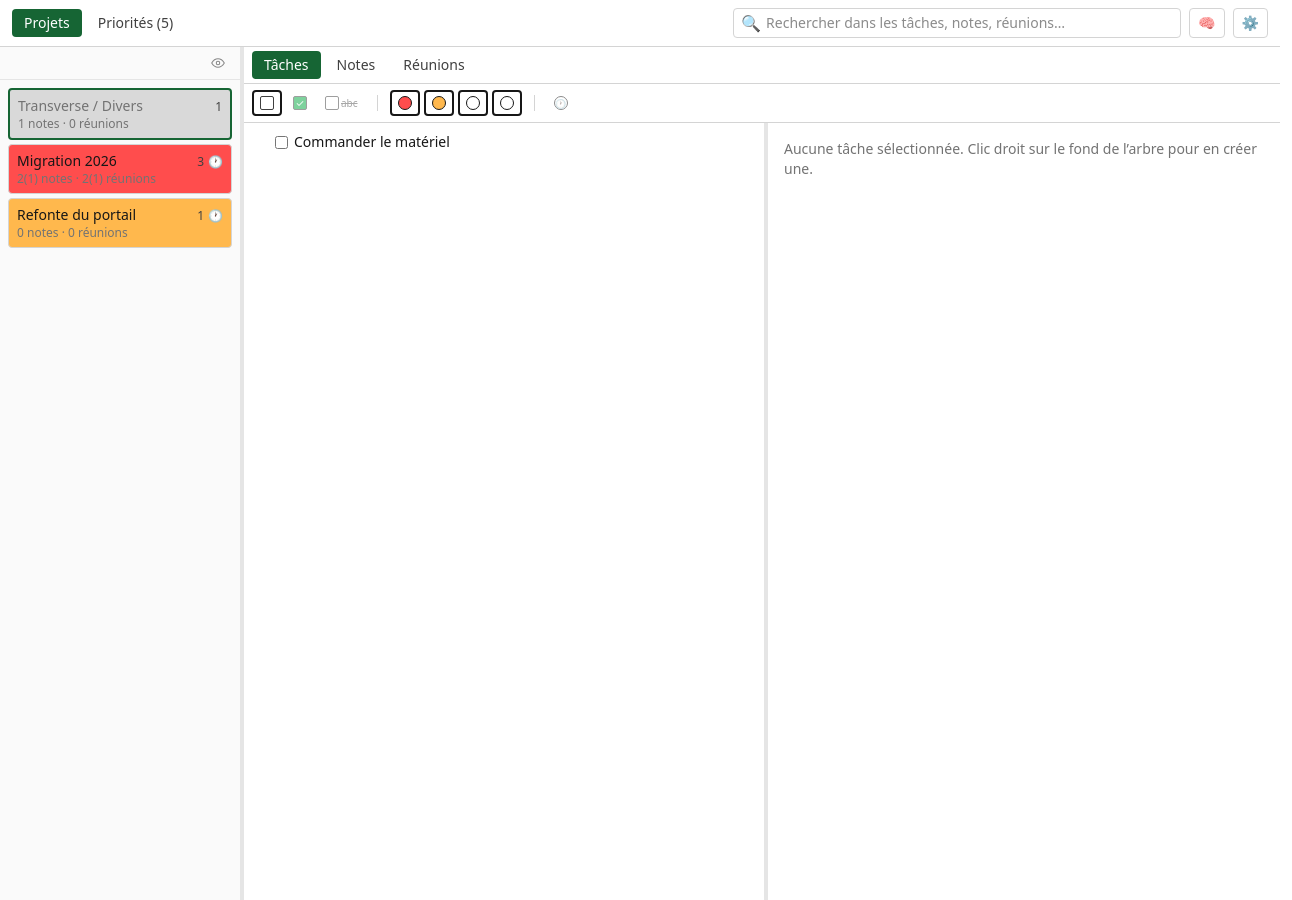
Test: Onglet Notes › §2.6 — la liste et l’éditeur sont côte à côte
Click the tab "Notes". click: (356, 65)
box: [324,51,387,79]
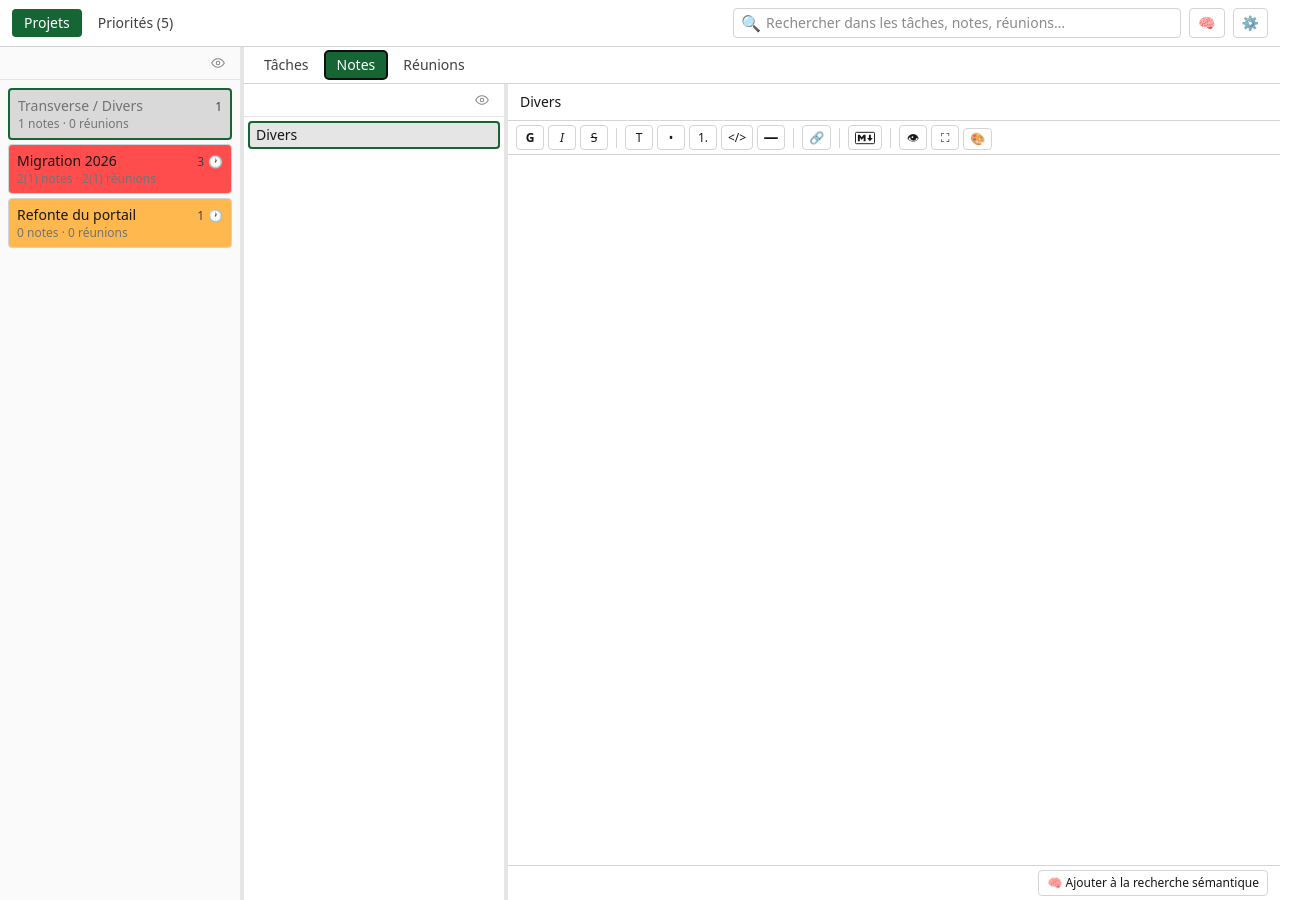
Result: the list named "Notes" is shown at [248,121,500,149]
